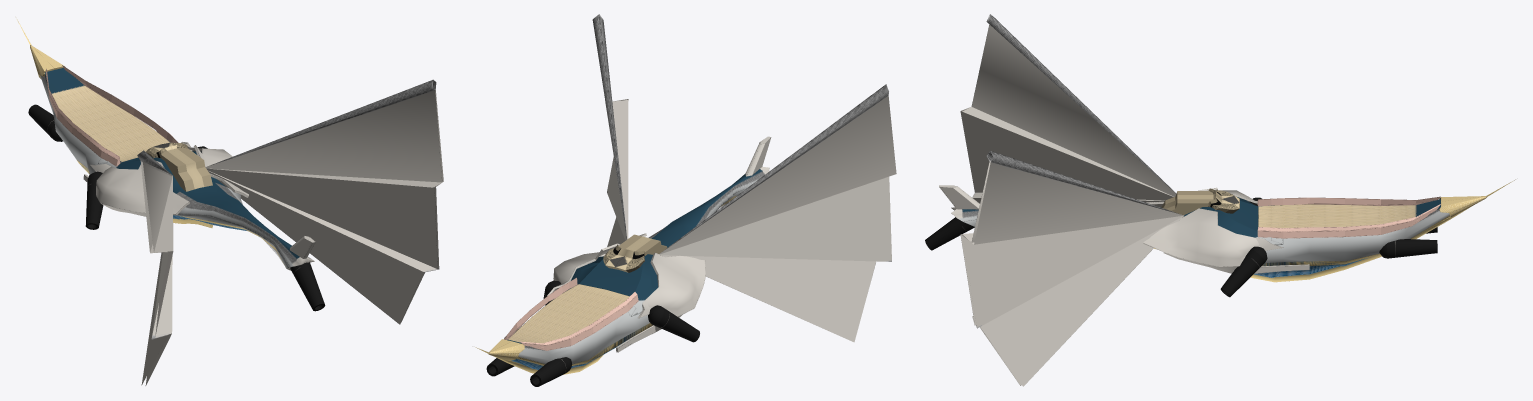
File: Weatherlight.FBX
The picture shows the model from 3 angles, left to right: view 1: azimuth 30°, elevation 25°; view 2: azimuth 150°, elevation 25°; view 3: azimuth 270°, elevation 25°; orthographic projection. The views are drawn at different scales.
Visible parts, largest first — view 1: Cone006, Box002, shipArmor001, Cone007, Cone005, Cone008; view 2: Cone006, Box002, shipArmor001, Cone005, Cone008; view 3: Cone006, shipArmor001, Box002, Cone005, Cone008, Cone007.
Part boxes in pixels (x1,y1,x2,y2): Cone006: [137, 79, 443, 385]; Box002: [40, 68, 315, 270]; shipArmor001: [17, 19, 248, 227]; Cone007: [290, 262, 325, 311]; Cone005: [85, 146, 207, 229]; Cone008: [28, 104, 62, 141]; Cone006: [592, 14, 896, 342]; Box002: [507, 136, 771, 369]; shipArmor001: [475, 233, 705, 374]; Cone005: [543, 280, 699, 342]; Cone008: [486, 357, 572, 386]; Cone006: [960, 14, 1184, 386]; shipArmor001: [1143, 179, 1515, 282]; Box002: [939, 185, 1449, 277]; Cone005: [1220, 197, 1267, 297]; Cone008: [1379, 227, 1437, 258]; Cone007: [925, 217, 974, 250].
Size of the model in its own units: 529 by 427 by 941.
